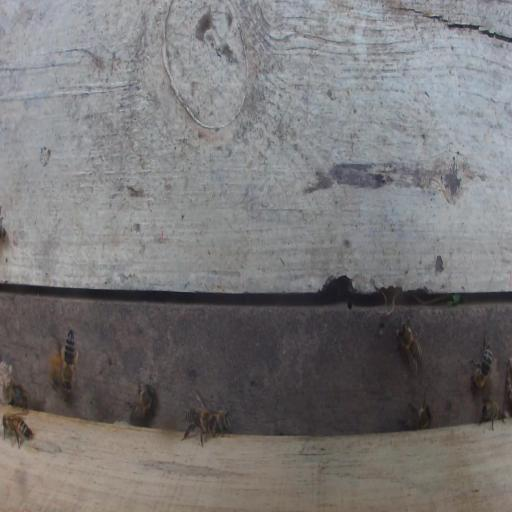nonpollenbee: (394, 318, 423, 375), (2, 411, 36, 451), (469, 332, 492, 390), (182, 405, 213, 447), (128, 383, 155, 421), (478, 395, 506, 431), (399, 399, 432, 429), (47, 335, 63, 386), (211, 410, 232, 437), (10, 383, 29, 409)
pollenbee: (61, 329, 79, 391)
